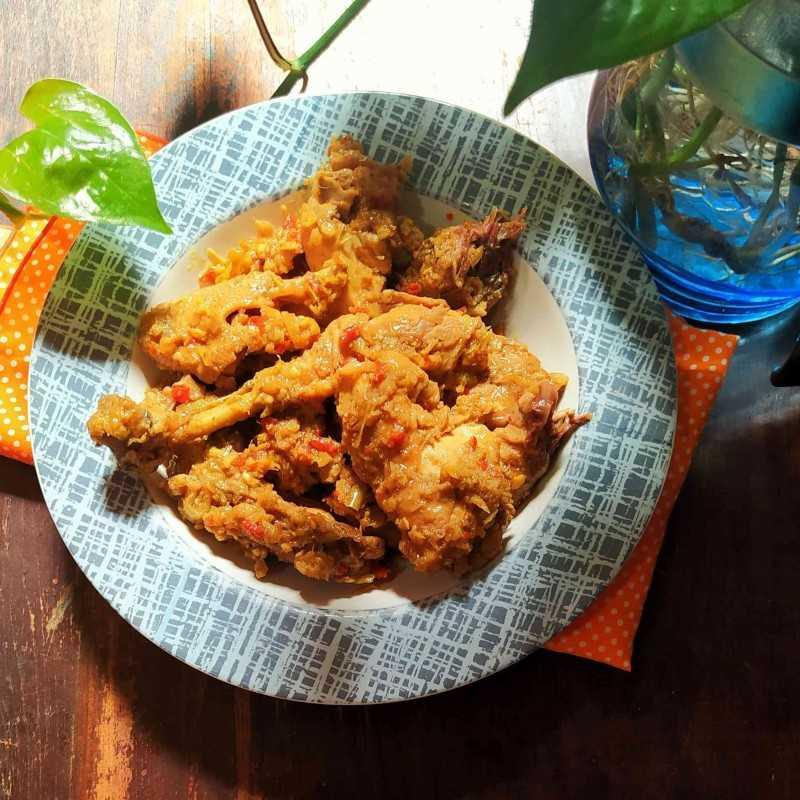ayam_betutu: (86, 140, 592, 588)
